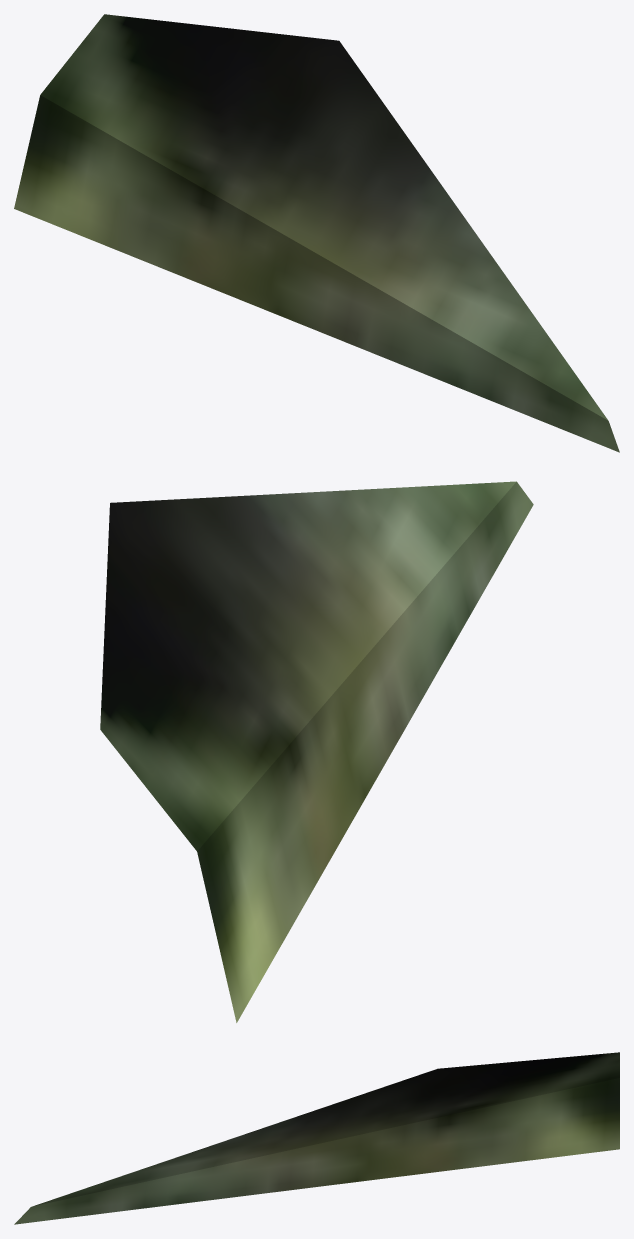
The picture shows the model from 3 angles, top to bottom: view 1: azimuth 30°, elevation 25°; view 2: azimuth 150°, elevation 25°; view 3: azimuth 270°, elevation 25°; orthographic projection. The views are drawn at different scales.
Size of the model in its own units: 1.55 by 1.5 by 5.28.
Materials: 1 (1 with a texture image).
